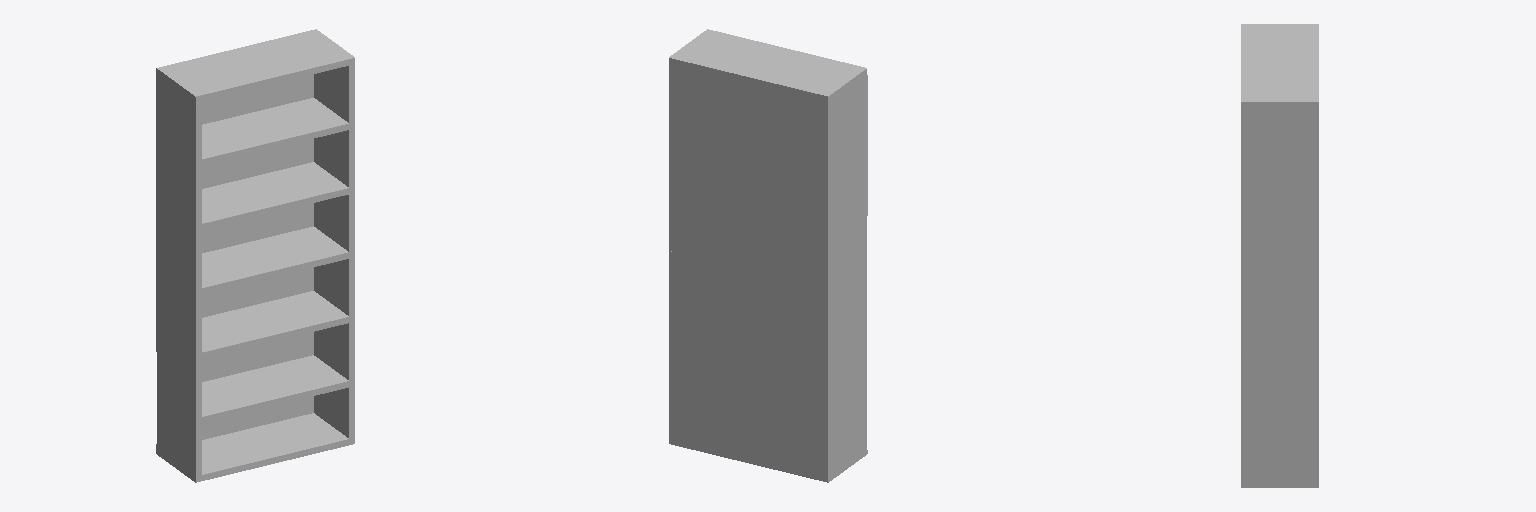
File: Project Name.obj
3 views of the same model, side by side, from view 1: azimuth 30°, elevation 25°; view 2: azimuth 150°, elevation 25°; view 3: azimuth 270°, elevation 25° (orthographic).
Visible parts, largest first — view 1: 007_Box_-_baked_2, 006_Box_-_baked_3, 008_Box_-_baked_1, 005_Box_-_baked_4, 009_Box_-_baked, 002_Box_-_baked_7, 000_Box_-_baked_9, 003_Box_-_baked_6, 004_Box_-_baked_5, 001_Box_-_baked_8; view 2: 006_Box_-_baked_3, 007_Box_-_baked_2, 005_Box_-_baked_4, 008_Box_-_baked_1; view 3: 008_Box_-_baked_1, 005_Box_-_baked_4.
Boxes of the visible parts, box(x1,y1,x2,y2) form: 007_Box_-_baked_2: box(156, 68, 201, 482); 006_Box_-_baked_3: box(202, 74, 313, 439); 008_Box_-_baked_1: box(314, 64, 354, 438); 005_Box_-_baked_4: box(157, 29, 354, 102); 009_Box_-_baked: box(196, 413, 354, 481); 002_Box_-_baked_7: box(196, 226, 354, 294); 000_Box_-_baked_9: box(196, 355, 354, 424); 003_Box_-_baked_6: box(196, 162, 354, 229); 004_Box_-_baked_5: box(196, 98, 354, 165); 001_Box_-_baked_8: box(196, 291, 354, 359); 006_Box_-_baked_3: box(672, 59, 824, 481); 007_Box_-_baked_2: box(825, 69, 867, 482); 005_Box_-_baked_4: box(669, 29, 866, 96); 008_Box_-_baked_1: box(669, 58, 671, 444); 008_Box_-_baked_1: box(1241, 102, 1318, 487); 005_Box_-_baked_4: box(1241, 24, 1318, 101).
Size of the model in its own units: 260 by 600 by 110.